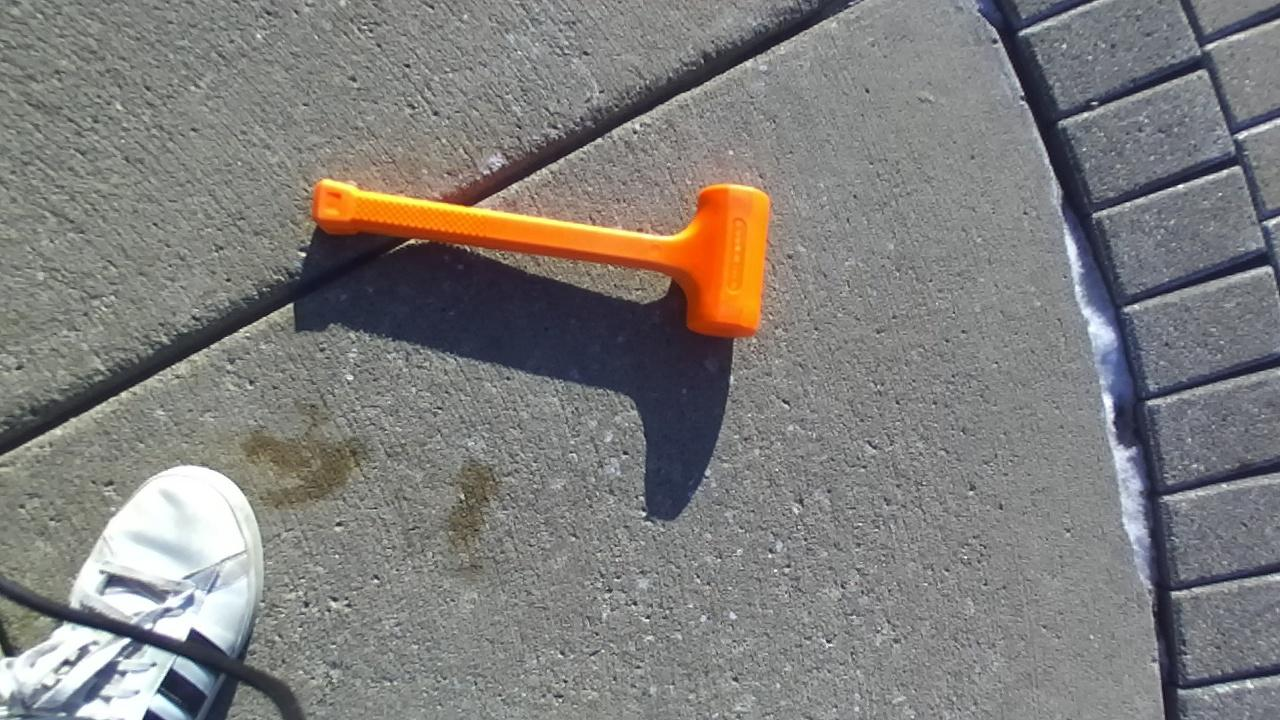mallet: (312, 179, 770, 337)
